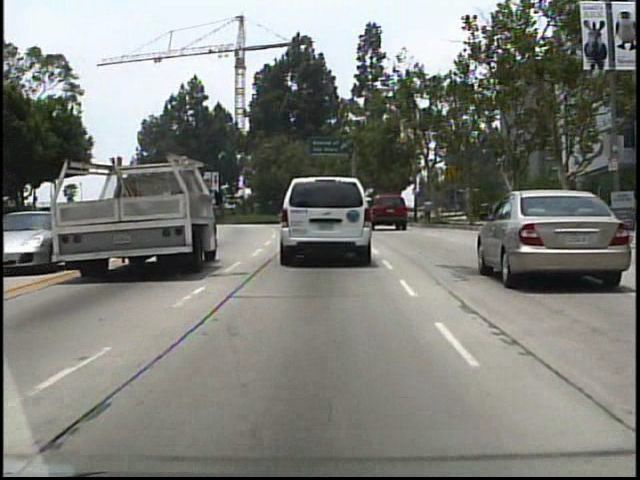person: (422, 194, 436, 226)
